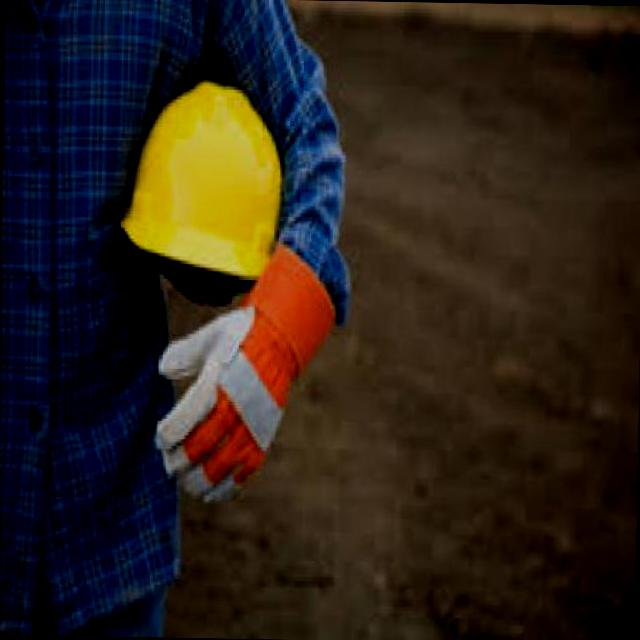gloves: (144, 242, 356, 518)
helmet: (112, 78, 287, 306)
no-vest: (0, 0, 271, 639)
